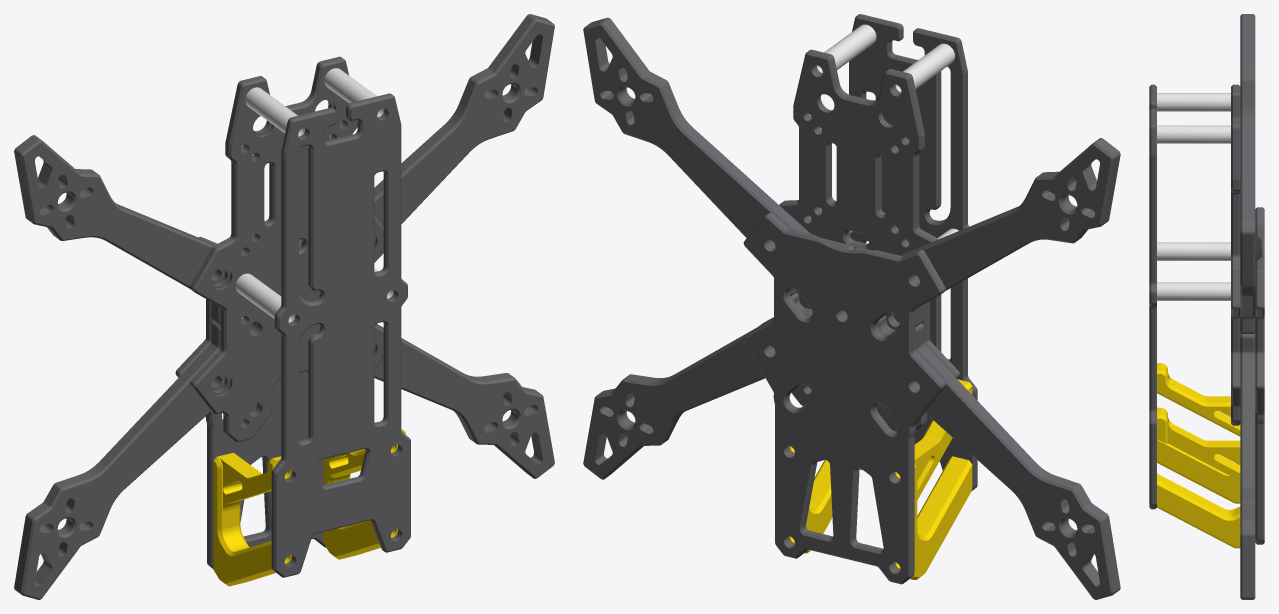
The model's file is frame3.glb.
The picture shows the model from 3 angles, left to right: view 1: azimuth 30°, elevation 25°; view 2: azimuth 150°, elevation 25°; view 3: azimuth 270°, elevation 25°; orthographic projection. The views are drawn at different scales.
Visible parts, largest first — view 1: occurrence of Top, occurrence of Arm (×4), occurrence of Base-Top, occurrence of Base-Bot, occurrence of Standoff-R, occurrence of Standoff M3 F-F 20 OD5 (×3), occurrence of Standoff-L; view 2: occurrence of Arm (×4), occurrence of Base-Bot, occurrence of Base-Top, occurrence of Top, occurrence of Standoff-R, occurrence of Standoff M3 F-F 20 OD5 (×2), occurrence of Standoff-L; view 3: occurrence of Arm (×3), occurrence of Standoff M3 F-F 20 OD5 (×4), occurrence of Standoff-L, occurrence of Standoff-R, occurrence of Base-Top, occurrence of Top, occurrence of Base-Bot.
Part boxes in pixels (<box>): occurrence of Top: <box>271,93,410,577</box>; occurrence of Arm (×4): <box>14,14,554,599</box>; occurrence of Base-Top: <box>190,56,383,442</box>; occurrence of Base-Bot: <box>175,236,377,568</box>; occurrence of Standoff-R: <box>213,452,291,586</box>; occurrence of Standoff M3 F-F 20 OD5 (×3): <box>235,68,384,322</box>; occurrence of Standoff-L: <box>323,429,405,559</box>; occurrence of Arm (×4): <box>583,17,1120,599</box>; occurrence of Base-Bot: <box>743,212,945,584</box>; occurrence of Base-Top: <box>759,49,960,430</box>; occurrence of Top: <box>849,14,977,491</box>; occurrence of Standoff-R: <box>894,379,972,579</box>; occurrence of Standoff M3 F-F 20 OD5 (×2): <box>817,24,954,91</box>; occurrence of Standoff-L: <box>789,446,859,553</box>; occurrence of Arm (×3): <box>1240,14,1255,599</box>; occurrence of Standoff M3 F-F 20 OD5 (×4): <box>1157,93,1230,300</box>; occurrence of Standoff-L: <box>1157,407,1240,548</box>; occurrence of Standoff-R: <box>1157,363,1240,503</box>; occurrence of Base-Top: <box>1231,84,1240,425</box>; occurrence of Top: <box>1149,84,1156,509</box>; occurrence of Base-Bot: <box>1255,207,1264,544</box>.
Size of the model in its own units: 0.1384 by 0.124 by 0.031.
